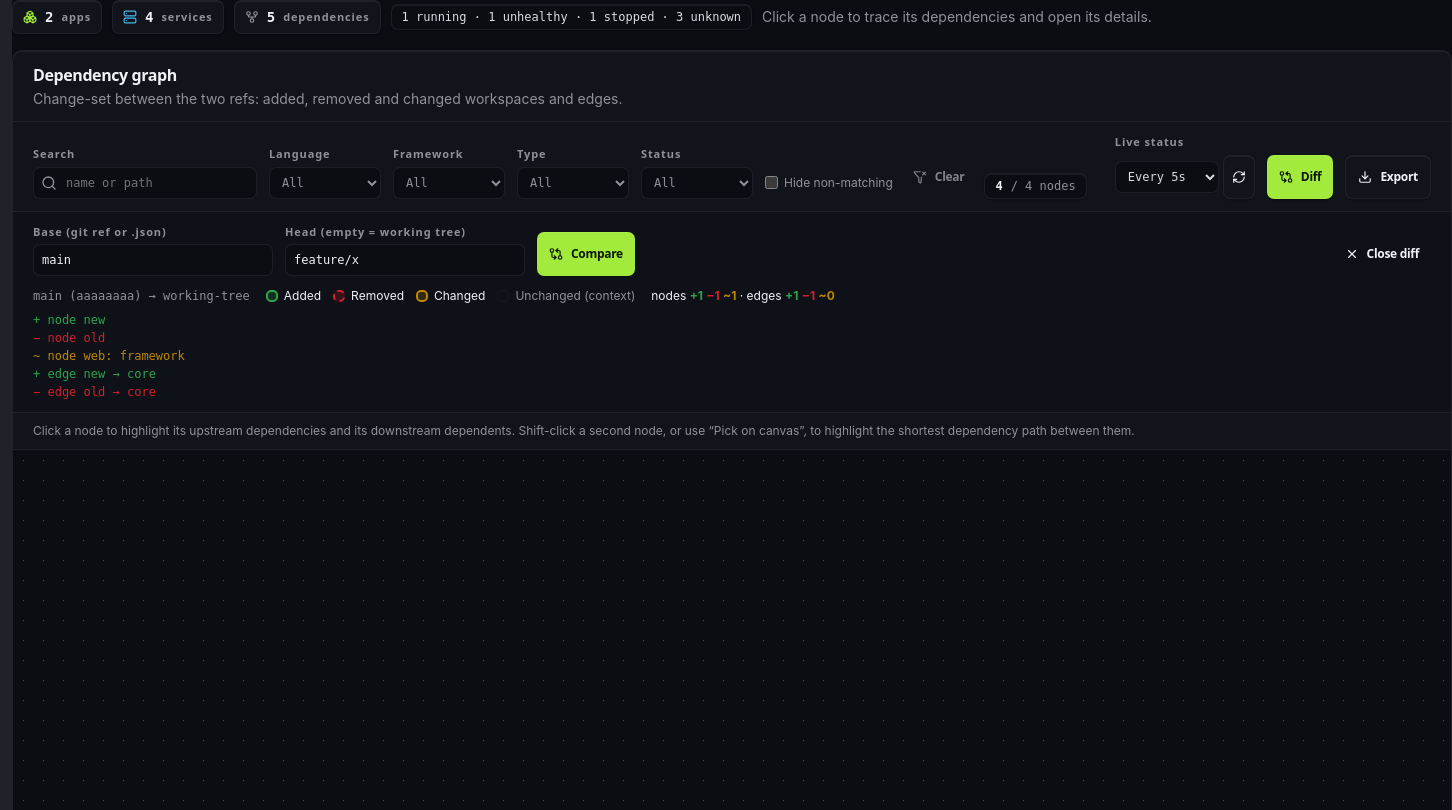
Test: graph diff › head ref is forwarded when given; closing the diff restores the live graph
Click the button with test id "graph-diff-close". click: (1382, 254)
box: [1332,232,1431,276]
(page scrolled)
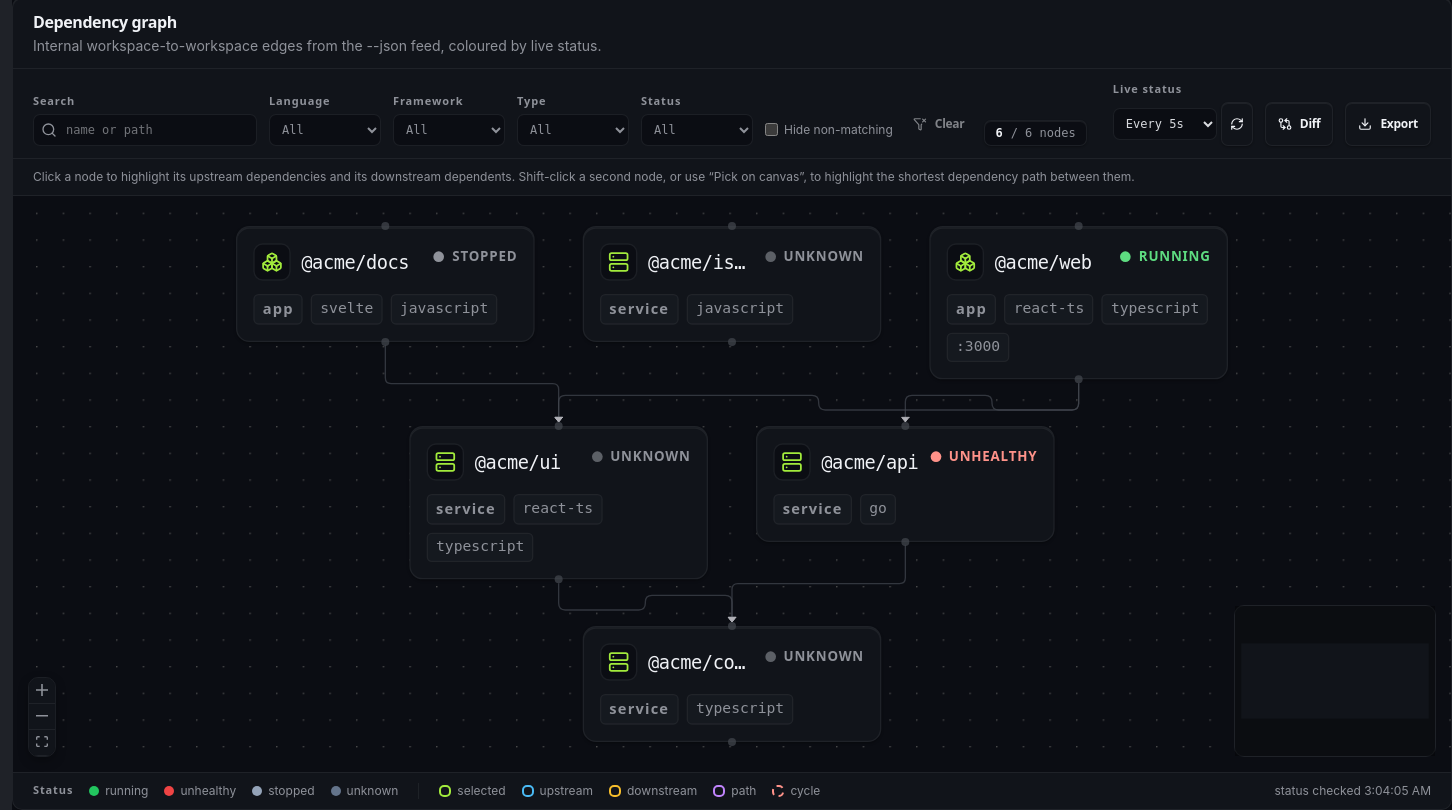
Result: the number of buttons with test id "graph-node" is 6 at [929,226,1228,379]; [236,226,535,341]; [409,426,708,579]; [756,426,1055,541]; [583,626,881,741]; [583,226,881,341]
